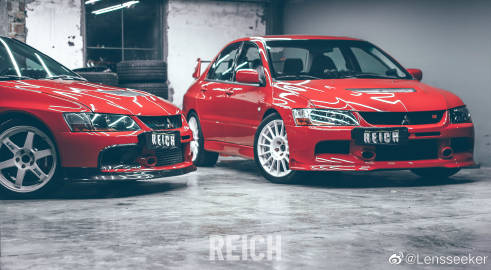other: (185, 32, 482, 179), (0, 32, 200, 188)
